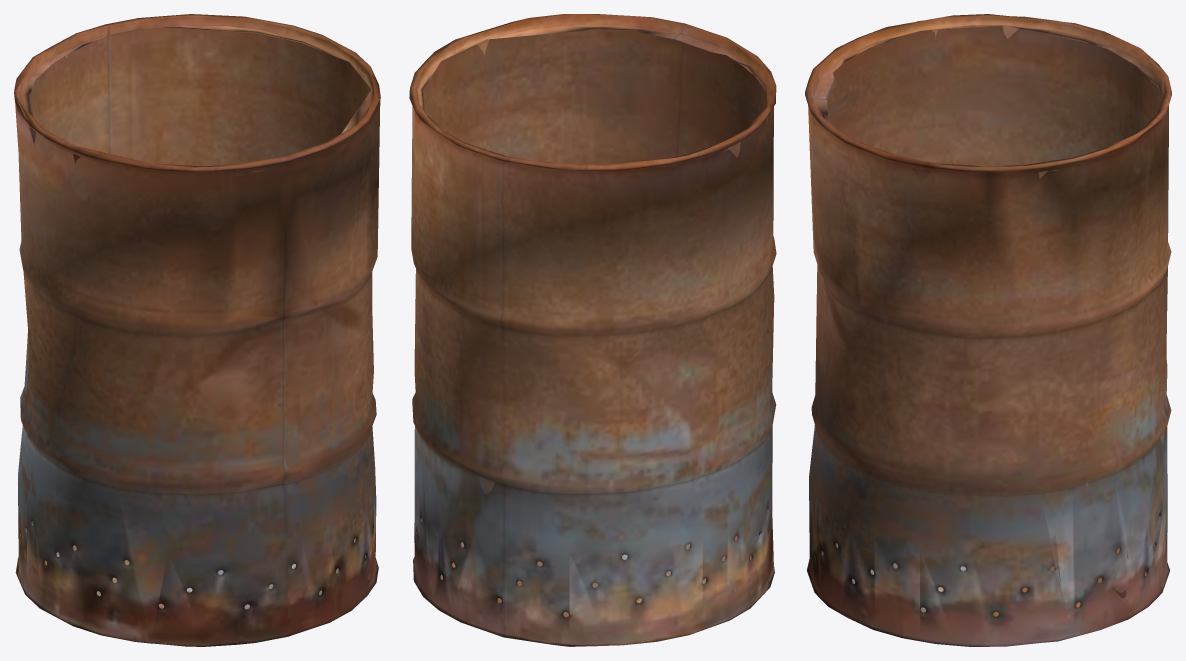
File: burn_barrel.glb
3 views of the same model, side by side, from view 1: azimuth 30°, elevation 25°; view 2: azimuth 150°, elevation 25°; view 3: azimuth 270°, elevation 25° (orthographic).
Visible parts, largest first — view 1: barrel_stove; view 2: barrel_stove; view 3: barrel_stove.
Boxes of the visible parts, bbox=[...] form: barrel_stove: bbox=[14, 14, 380, 646]; barrel_stove: bbox=[409, 14, 776, 646]; barrel_stove: bbox=[805, 14, 1171, 646].
Bounding box in the file's own units: 0.59 × 0.8556 × 0.5903.
1 material, 1 textured.
